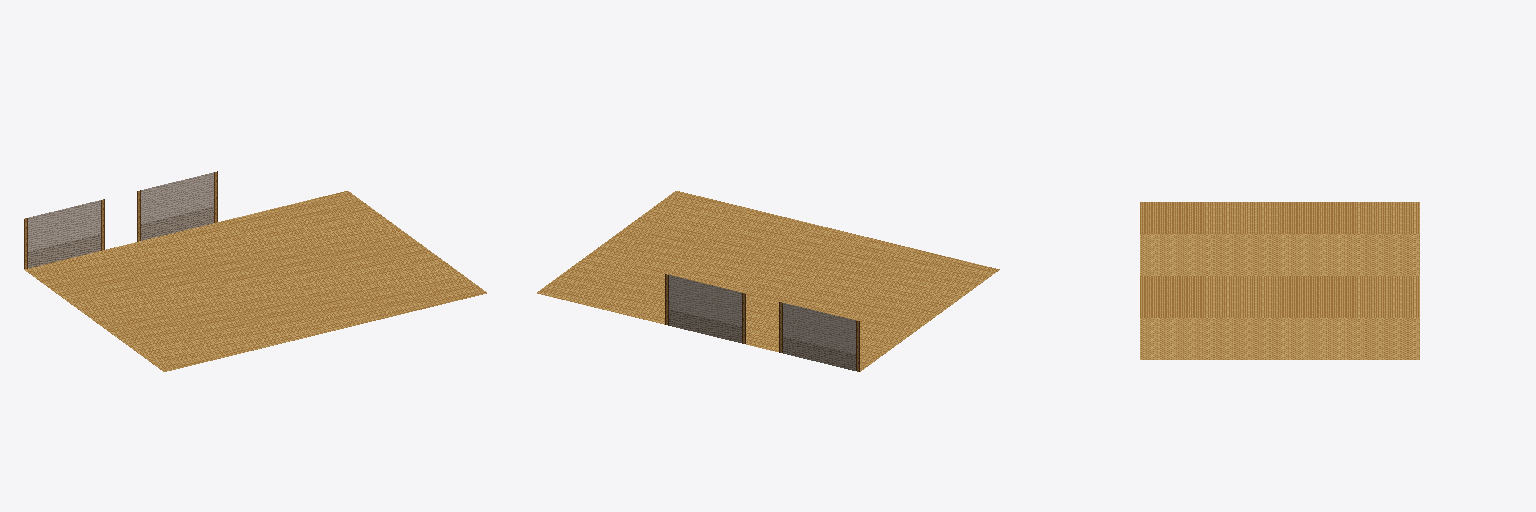
The picture shows the model from 3 angles: view 1: azimuth 30°, elevation 25°; view 2: azimuth 150°, elevation 25°; view 3: azimuth 270°, elevation 25°; orthographic projection.
Parts seen in each view (by area): view 1: Plane 1, Plane 2 - Duplicate, Plane 2; view 2: Plane 1, Plane 2 - Duplicate, Plane 2; view 3: Plane 1.
Part boxes in pixels (x1,y1,x2,y2): Plane 1: (24,191,486,371); Plane 2 - Duplicate: (137,171,217,241); Plane 2: (24,199,104,268); Plane 1: (537,191,999,371); Plane 2 - Duplicate: (665,274,745,343); Plane 2: (779,302,859,371); Plane 1: (1140,202,1419,359).
Size of the model in its own units: 320 by 48 by 240.
2 materials, 2 textured.